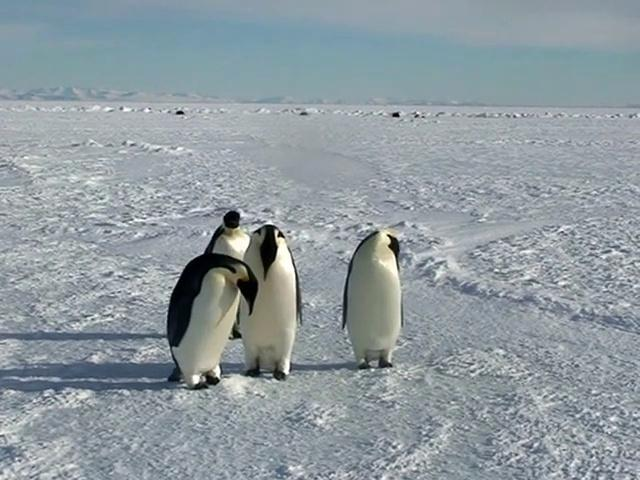animal: (344, 230, 405, 369)
